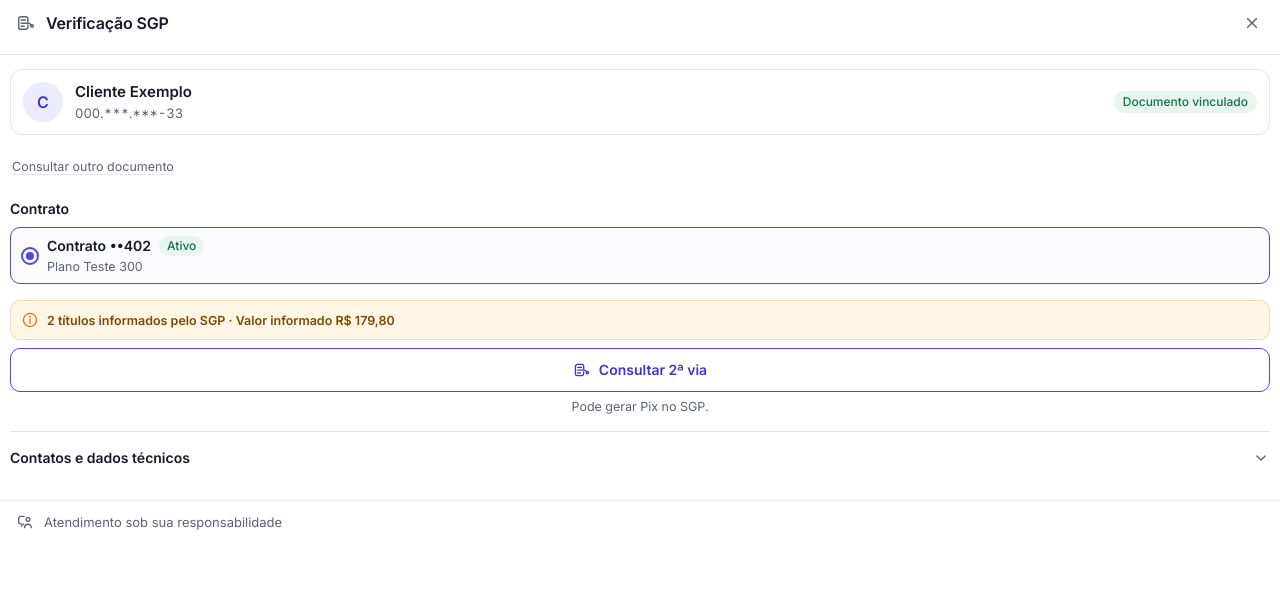
Test: identificação › documento diferente do contato fica sinalizado
The width and height of the screenshot is (1280, 599).
Click the button "Consultar outro documento" at (93, 167), box [10, 151, 176, 183]
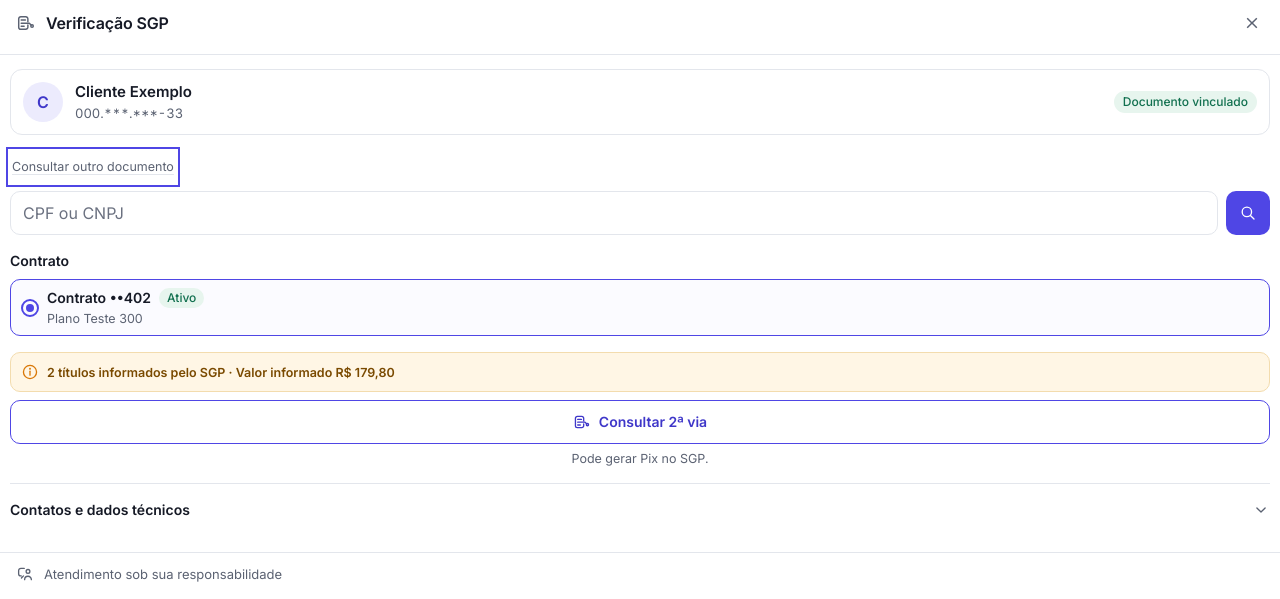
Type "99988877766" into the field named "CPF ou CNPJ do cliente" at (614, 213), box [10, 191, 1218, 235]
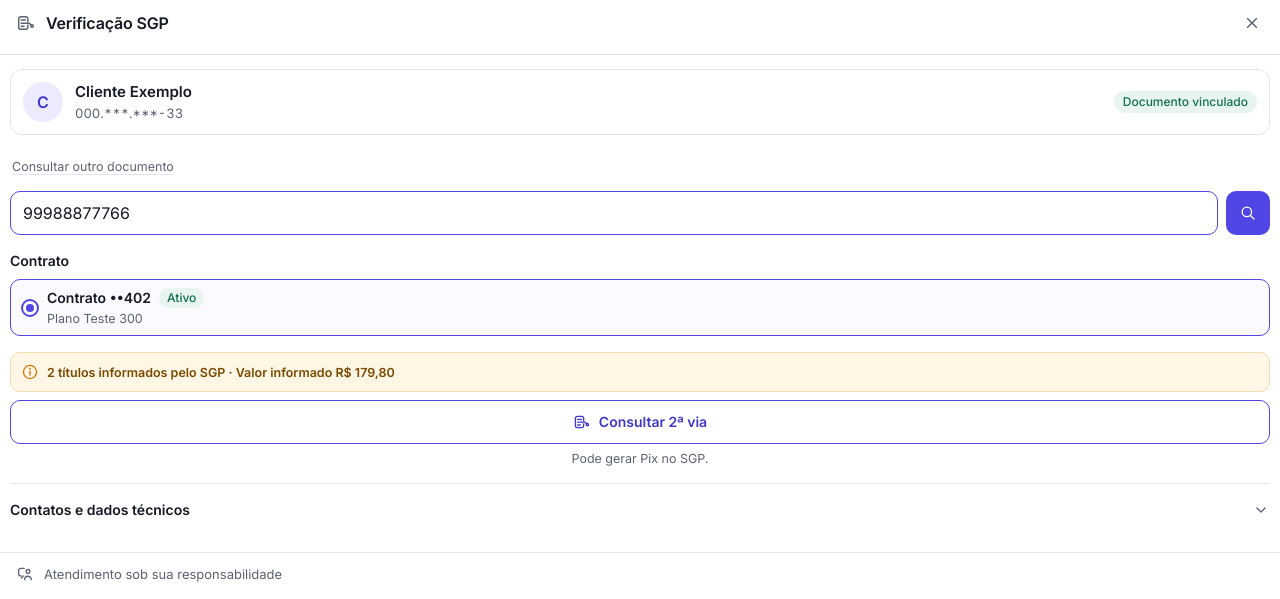
Click the button named "Buscar" at (1248, 213), box [1226, 191, 1270, 235]
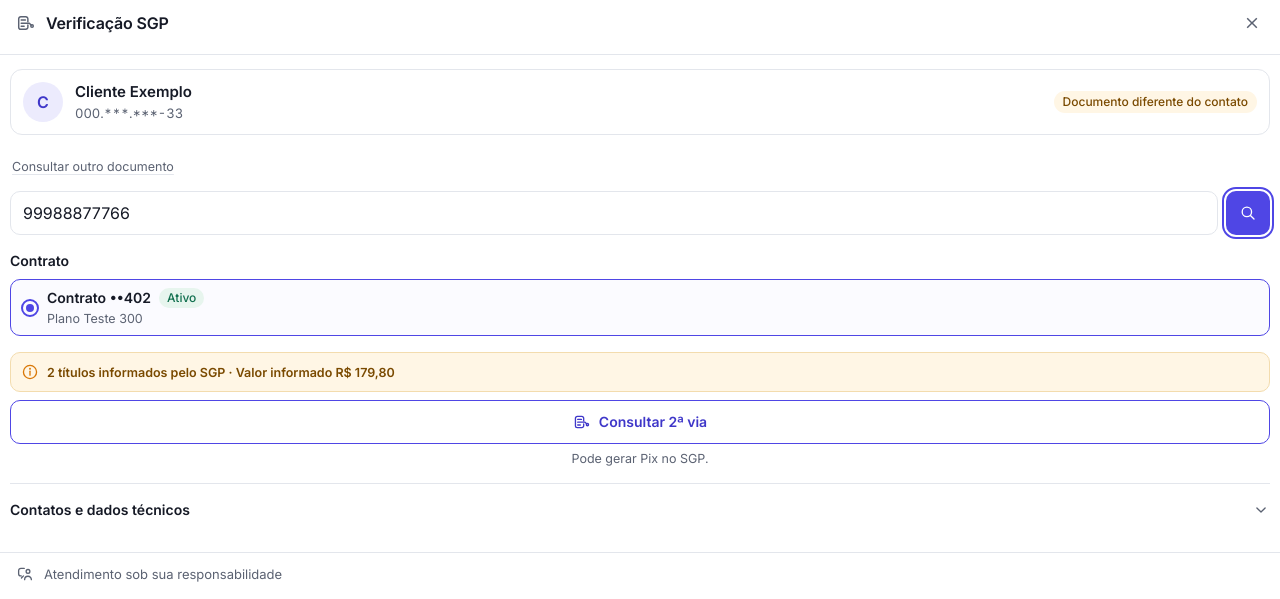
Expected: the text "Documento diferente do contato" is shown, [1054, 91, 1257, 113]
Expected: the text "Documento vinculado" is gone
